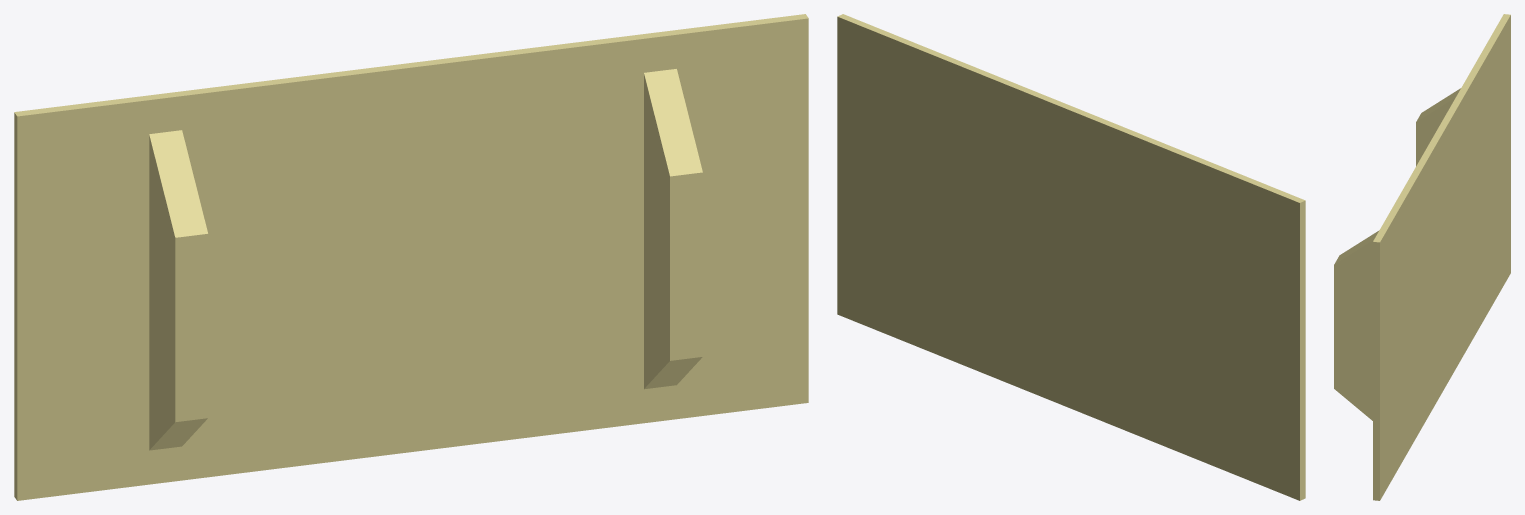
Rendered from Emotional Wall (-2.16354, -9.367, 2.6).glb.
3 views of the same model, side by side, from view 1: azimuth 30°, elevation 25°; view 2: azimuth 150°, elevation 25°; view 3: azimuth 270°, elevation 25° (orthographic). The views are drawn at different scales.
Parts seen in each view (by area): view 1: Plane; view 2: Plane; view 3: Plane.
Part boxes in pixels (x1,y1,x2,y2): Plane: (14, 14, 808, 500); Plane: (837, 14, 1305, 500); Plane: (1334, 14, 1510, 500).
Size of the model in its own units: 6.82 by 3.6 by 2.23.
